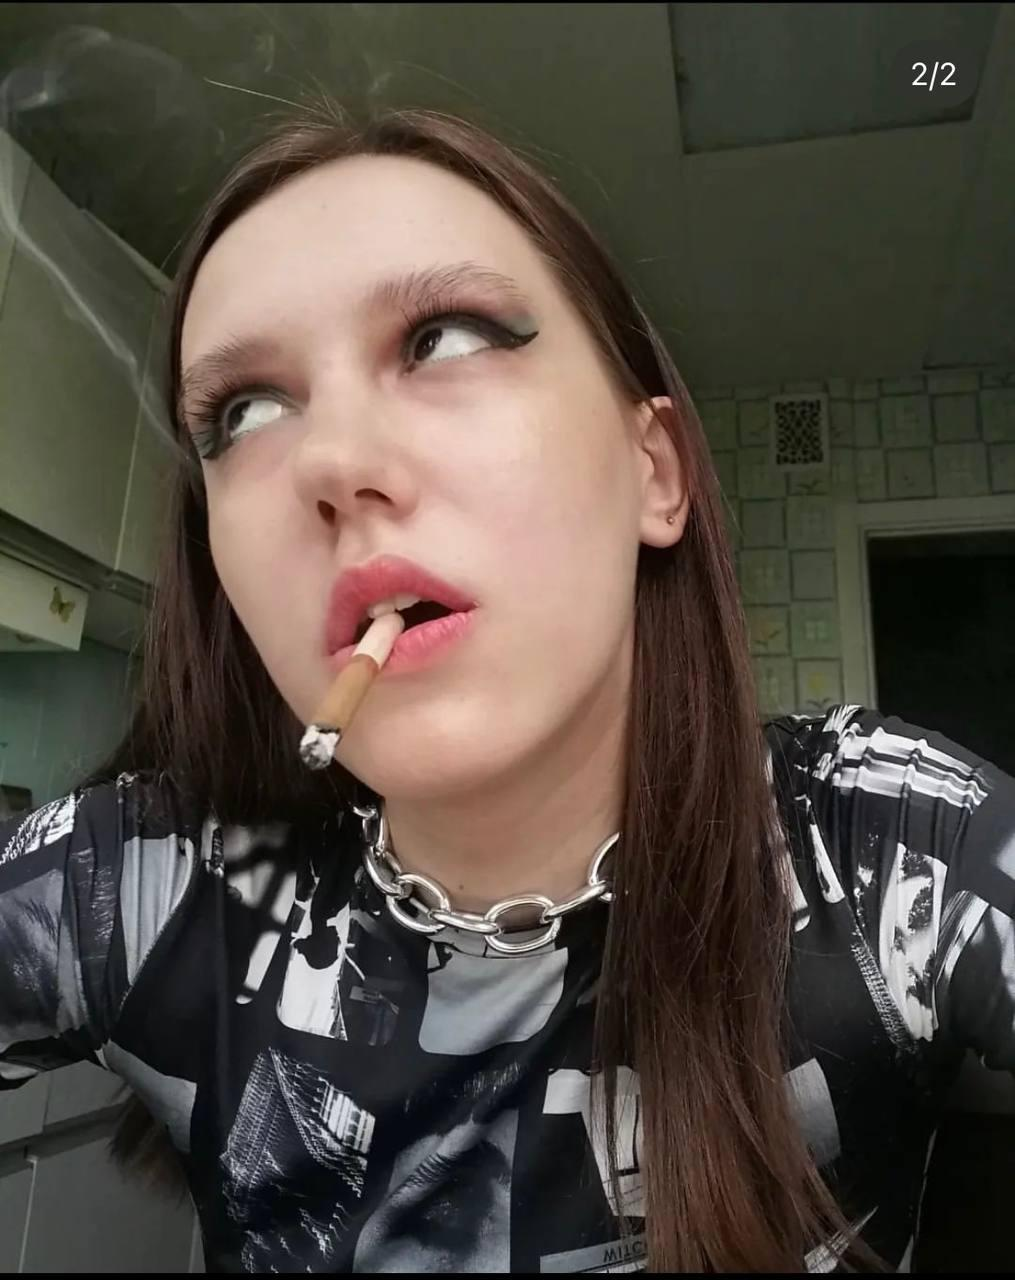cigarette: (295, 614, 406, 768)
